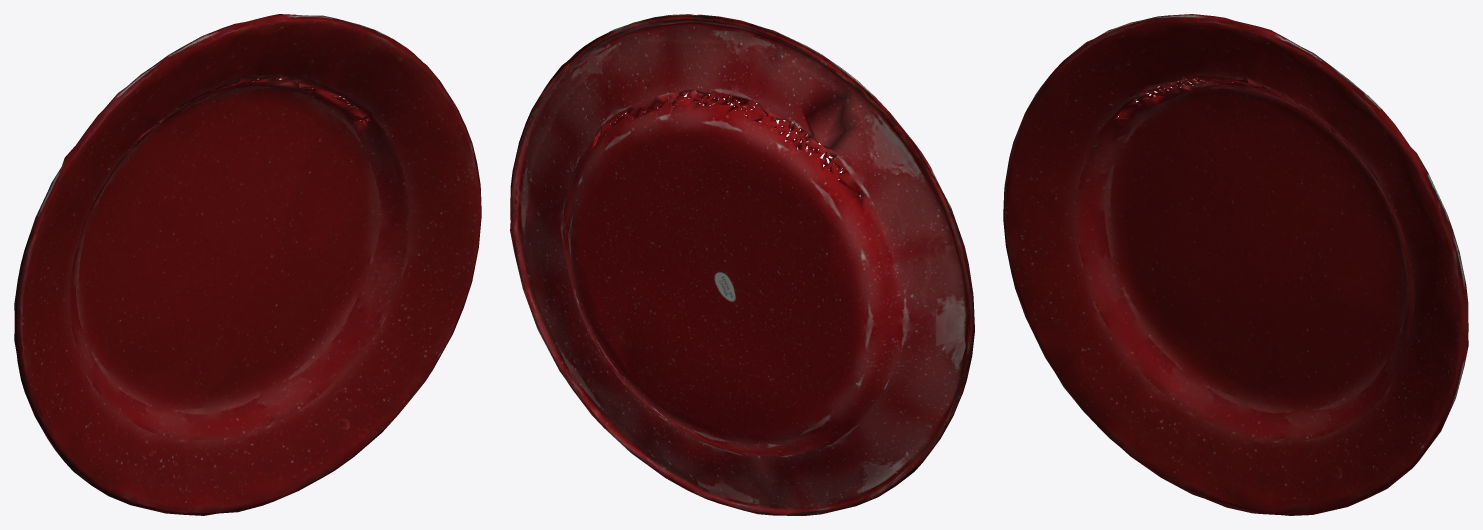
File: 029_plate.glb
3 renders of one model, left to right at view 1: azimuth 30°, elevation 25°; view 2: azimuth 150°, elevation 25°; view 3: azimuth 330°, elevation 25°, orthographic.
Parts seen in each view (by area): view 1: textured.040; view 2: textured.040; view 3: textured.040.
Boxes of the visible parts, left/top/right/bottom form: textured.040: left=14, top=14, right=481, bottom=515; textured.040: left=510, top=14, right=974, bottom=515; textured.040: left=1003, top=14, right=1468, bottom=515.
Bounding box in the file's own units: 0.26 × 0.2607 × 0.0268.
Materials: 1 (1 with a texture image).
